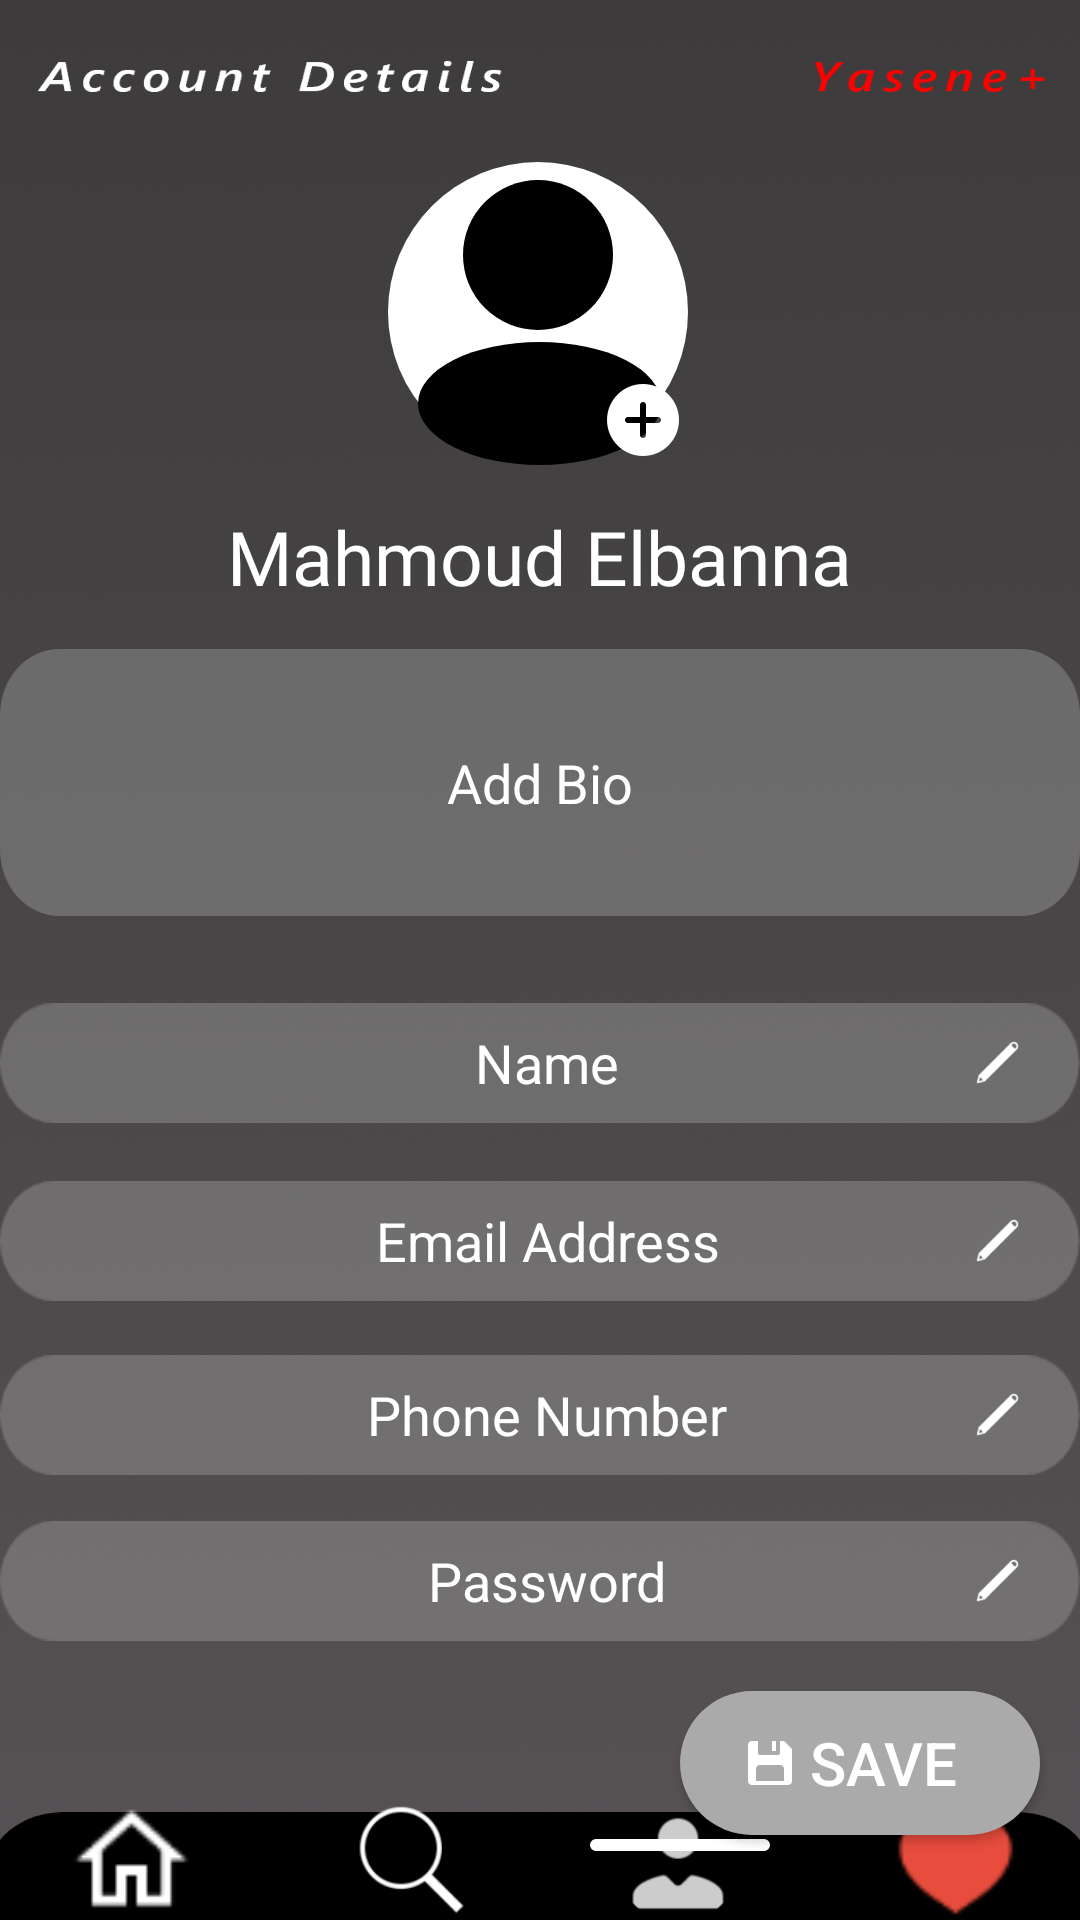

Screen size 1080w x 1920h. Icon name, then its center in pixels as (x,y):
home: (131,1860)
search: (410,1860)
